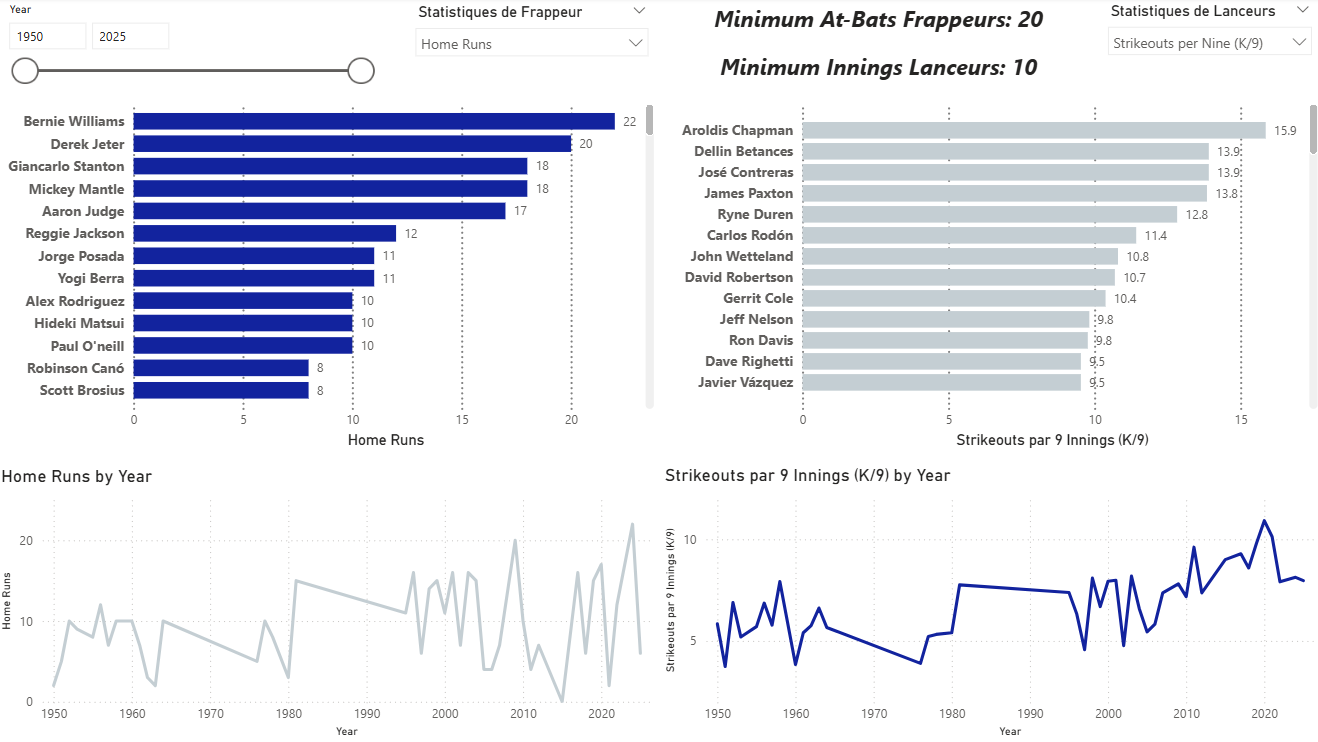

The dashboard page shown, as its layout file describes it:
{"tool":"powerbi","page":{"name":"Statistiques Leaders - Playoffs","canvas":[1280,720],"ordinal":2},"visuals":[{"type":"slicer","fields":{"Values":["date_dim.Date.Variation.Date Hierarchy.Year"]},"box":[0,0,373.8,90.7],"z":0},{"type":"slicer","fields":{"Values":["Statistiques de Frappeur.Statistiques de Frappeur"]},"box":[394.7,1.4,245.5,90.7],"z":1000},{"type":"barChart","fields":{"Y":["_Measures.Total Home Runs"],"Category":["dim_players.player_name"]},"box":[0,90.7,640.1,350.1],"z":2000},{"type":"lineChart","fields":{"Y":["_Measures.Total Home Runs"],"Category":["date_dim.Date.Variation.Date Hierarchy.Year"]},"box":[0,451.9,640.1,267.8],"z":3000},{"type":"slicer","fields":{"Values":["Statistiques de Lanceurs.Statistiques de Lanceurs"]},"box":[1062.7,0,217.6,90.7],"z":4000},{"type":"barChart","fields":{"Y":["_Measures.Strikeouts per Nine"],"Category":["dim_players.player_name"]},"box":[640.1,90.7,640.1,350.1],"z":5000},{"type":"lineChart","fields":{"Y":["_Measures.Strikeouts per Nine"],"Category":["date_dim.Date.Variation.Date Hierarchy.Year"]},"box":[640.6,451.2,639.4,269],"z":6000},{"type":"textbox","box":[640.1,1.4,422.6,89.3],"z":7000}]}

Visuals, with their boxes in screenshot pixels (x1, y1, x2, y2), scaled from the page's 1280x720 canvas onto the 1318x742 screenshot:
slicer - date_dim.Date.Variation.Date Hierarchy.Year: box(0, 0, 385, 93)
slicer - Statistiques de Frappeur.Statistiques de Frappeur: box(406, 1, 659, 95)
barChart - _Measures.Total Home Runs x dim_players.player_name: box(0, 93, 659, 454)
lineChart - _Measures.Total Home Runs x date_dim.Date.Variation.Date Hierarchy.Year: box(0, 466, 659, 741)
slicer - Statistiques de Lanceurs.Statistiques de Lanceurs: box(1094, 0, 1317, 93)
barChart - _Measures.Strikeouts per Nine x dim_players.player_name: box(659, 93, 1317, 454)
lineChart - _Measures.Strikeouts per Nine x date_dim.Date.Variation.Date Hierarchy.Year: box(660, 465, 1317, 741)
textbox: box(659, 1, 1094, 93)
